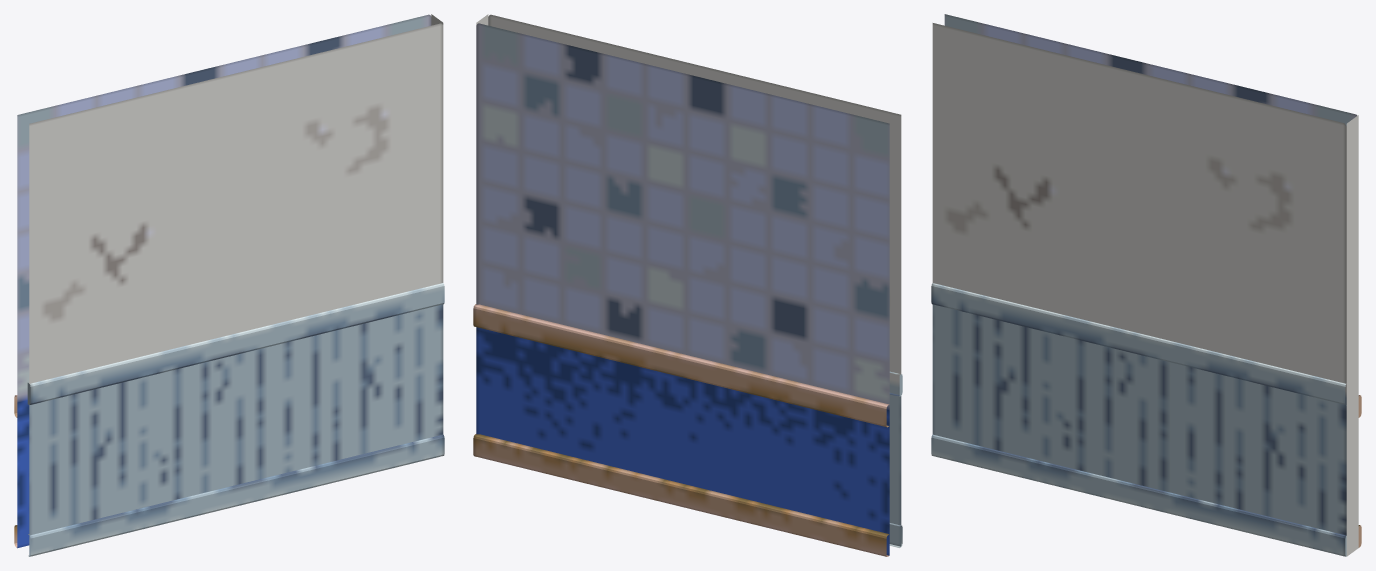
File: Wall_TipoA_2.fbx
The picture shows the model from 3 angles, left to right: view 1: azimuth 30°, elevation 25°; view 2: azimuth 150°, elevation 25°; view 3: azimuth 330°, elevation 25°; orthographic projection.
Visible parts, largest first — view 1: Cube.090, Cube.088, Cube.096; view 2: Cube.090, Cube.089, Cube.087; view 3: Cube.090, Cube.096, Cube.088.
Boxes of the visible parts, x1,y1,x2,y2 form: Cube.090: (17, 14, 443, 556); Cube.088: (27, 283, 444, 405); Cube.096: (28, 434, 444, 556); Cube.090: (476, 14, 901, 555); Cube.089: (473, 304, 889, 427); Cube.087: (473, 434, 888, 556); Cube.090: (932, 14, 1358, 556); Cube.096: (931, 434, 1346, 556); Cube.088: (931, 283, 1345, 404).
Bounding box in the file's own units: 400 × 400 × 26.81.
